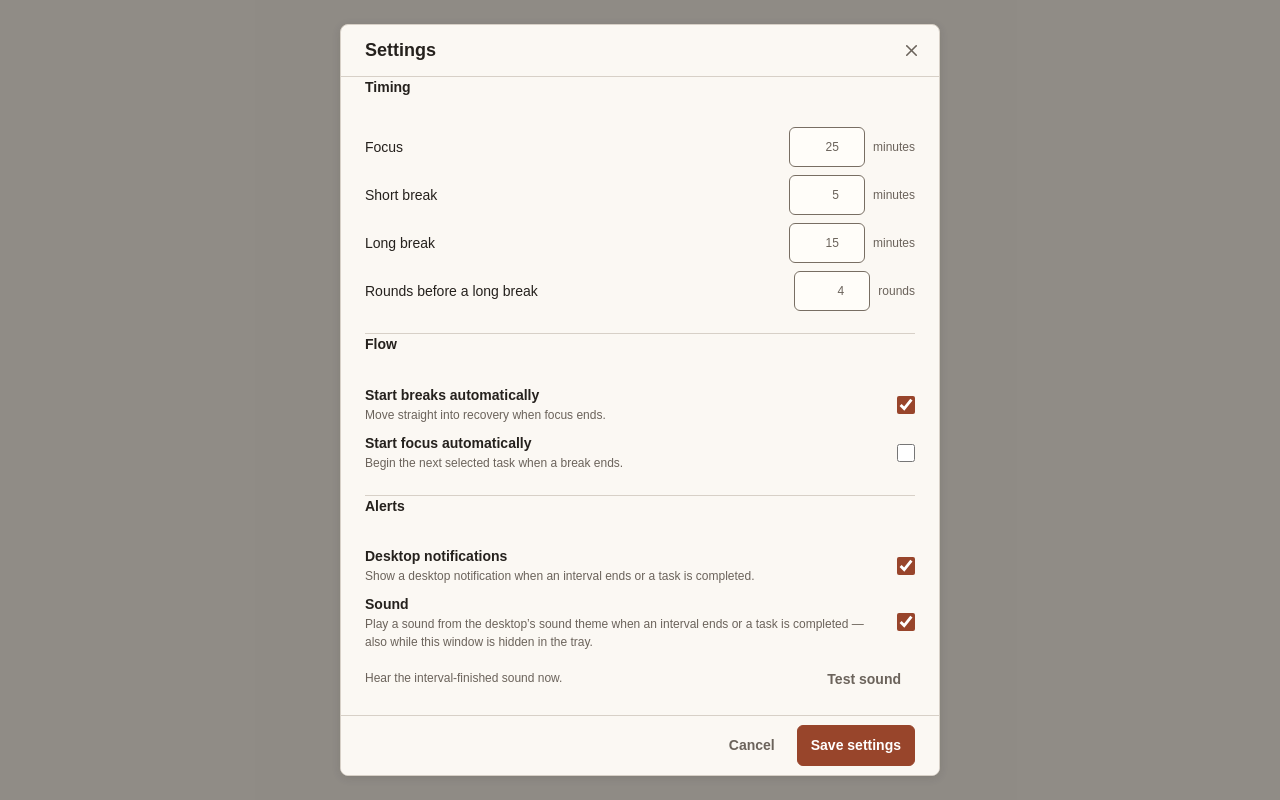
it: number fields › can be emptied to retype, and settles into range when left
Clear the number field labelled "Focus" at (827, 147), box [789, 127, 865, 167]
Type "3" into the number field labelled "Focus" at (827, 147), box [789, 127, 865, 167]
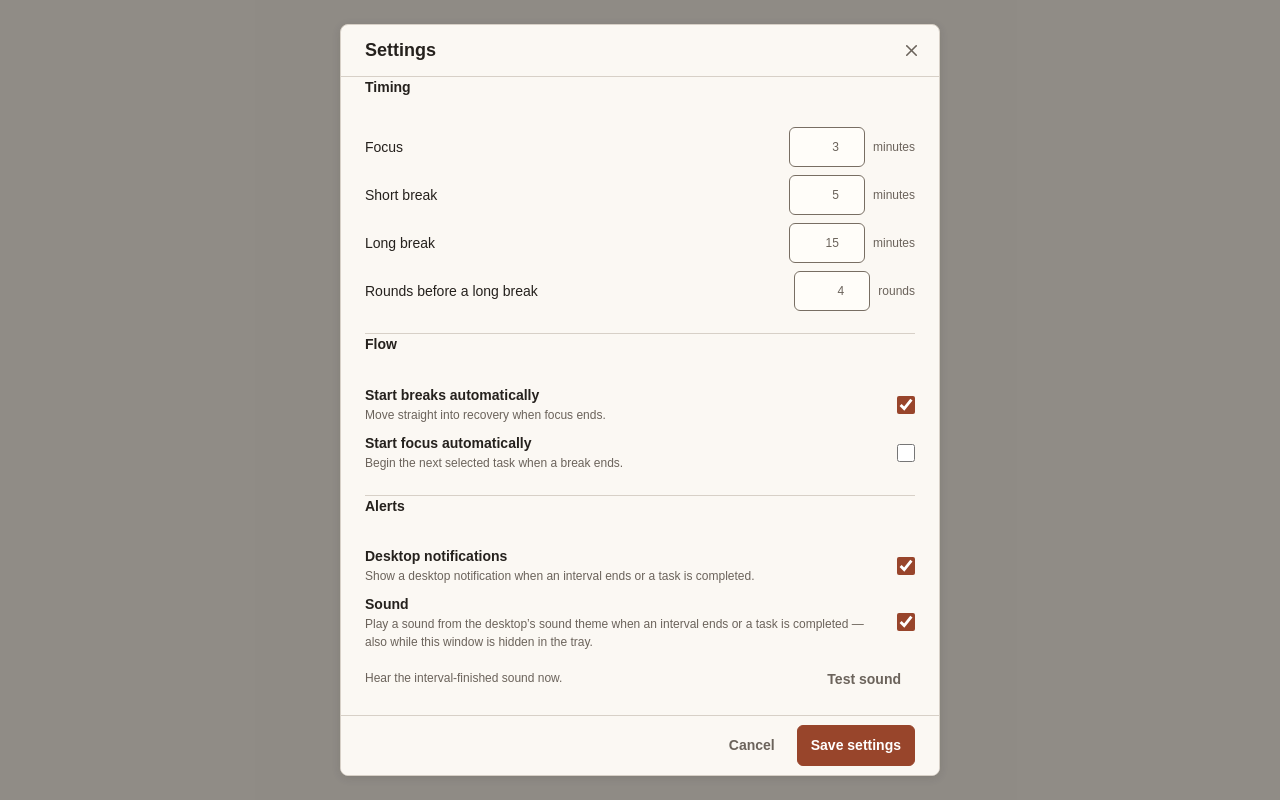
Replace the text in the number field labelled "Focus" with "30" at (827, 147), box [789, 127, 865, 167]
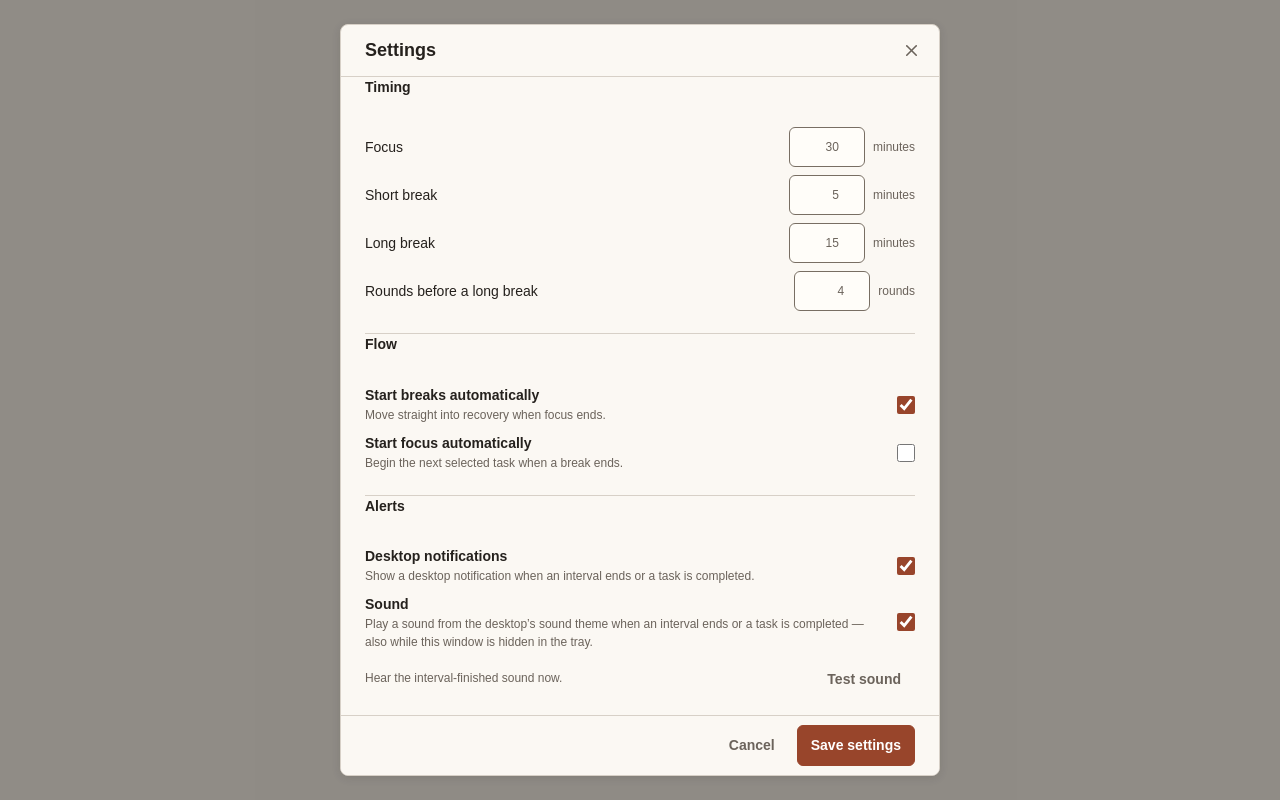
Replace the text in the number field labelled "Focus" with "300" at (827, 147), box [789, 127, 865, 167]
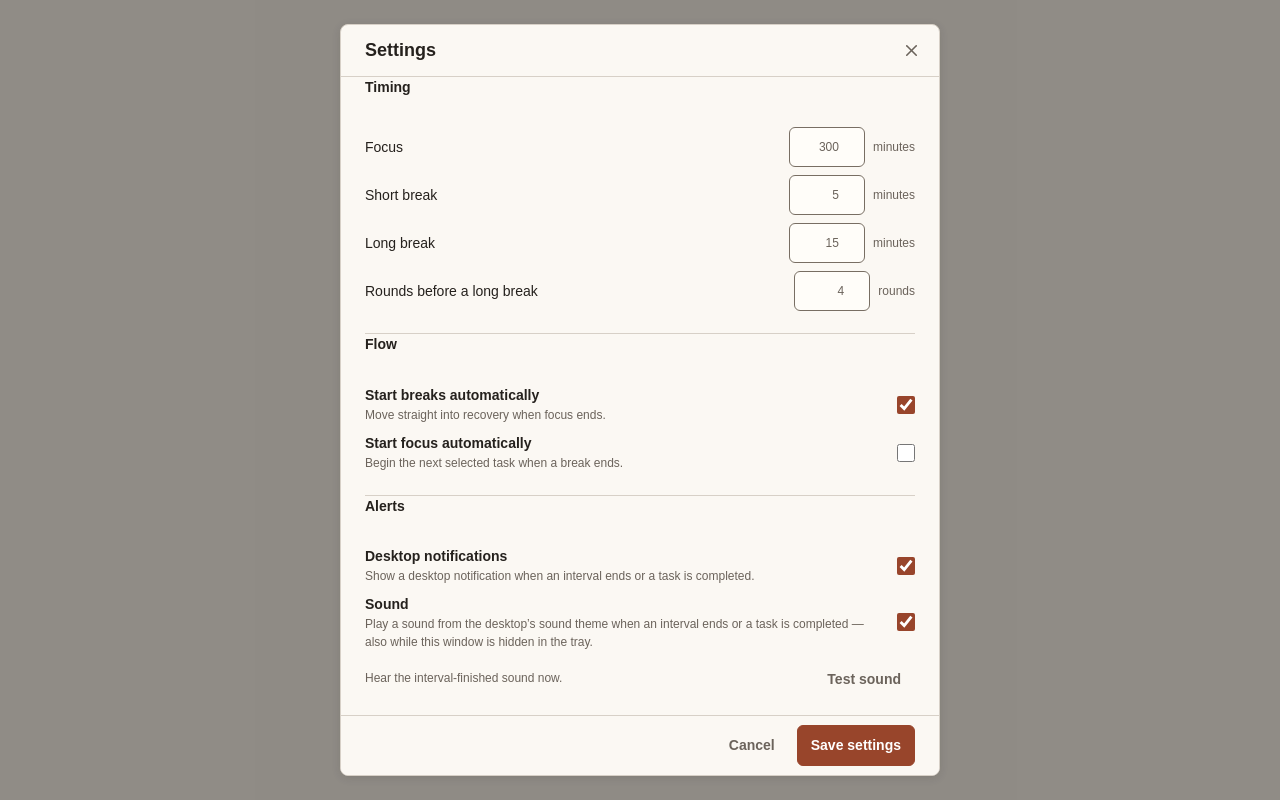
Leave the number field labelled "Focus", box [789, 127, 865, 167]
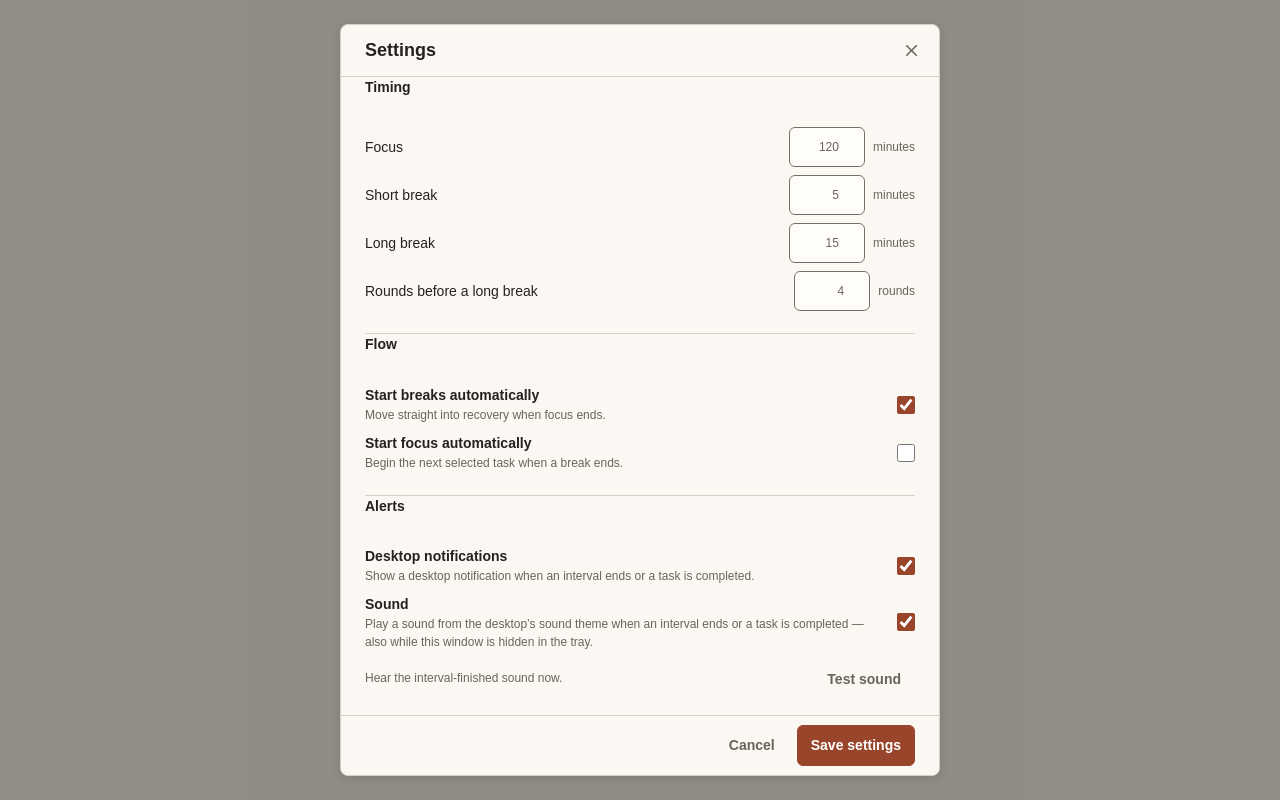
Now the number field labelled "Focus" holds "120"
Clear the number field labelled "Focus" at (827, 147), box [789, 127, 865, 167]
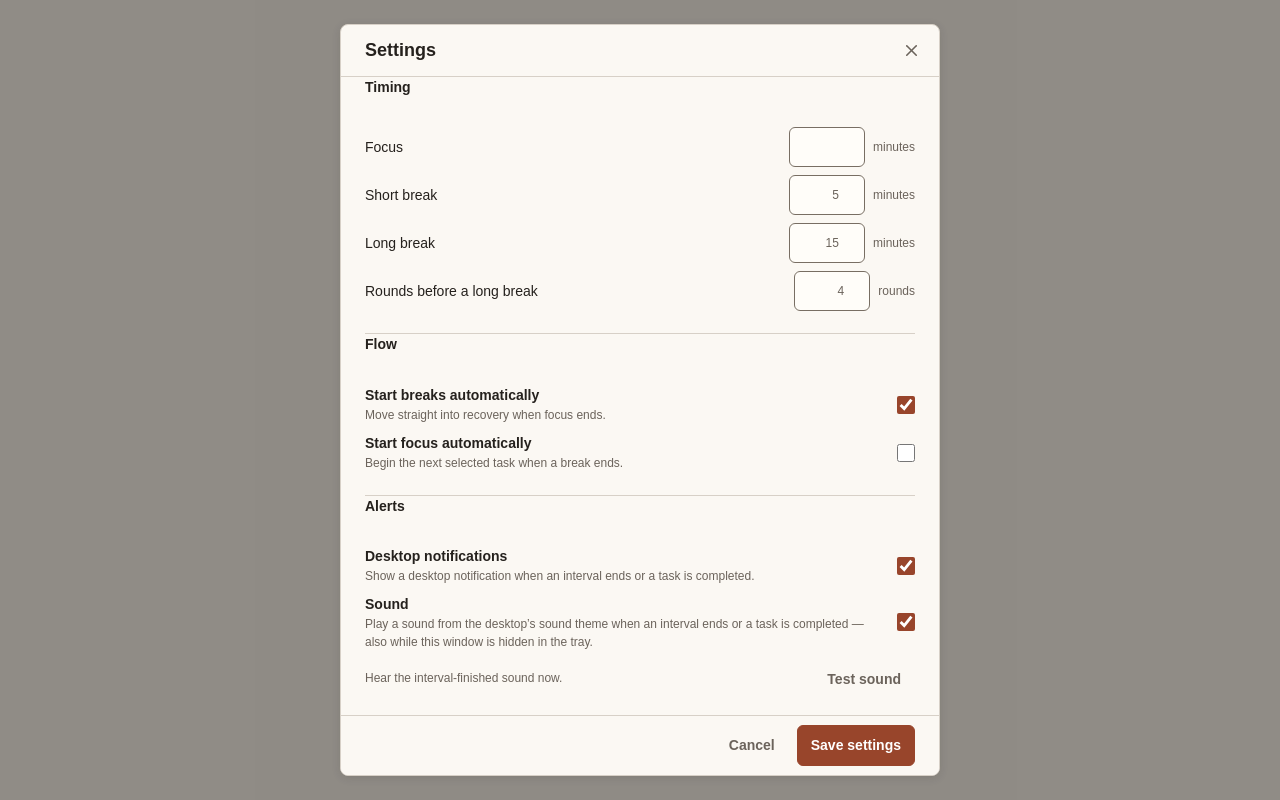
Leave the number field labelled "Focus", box [789, 127, 865, 167]
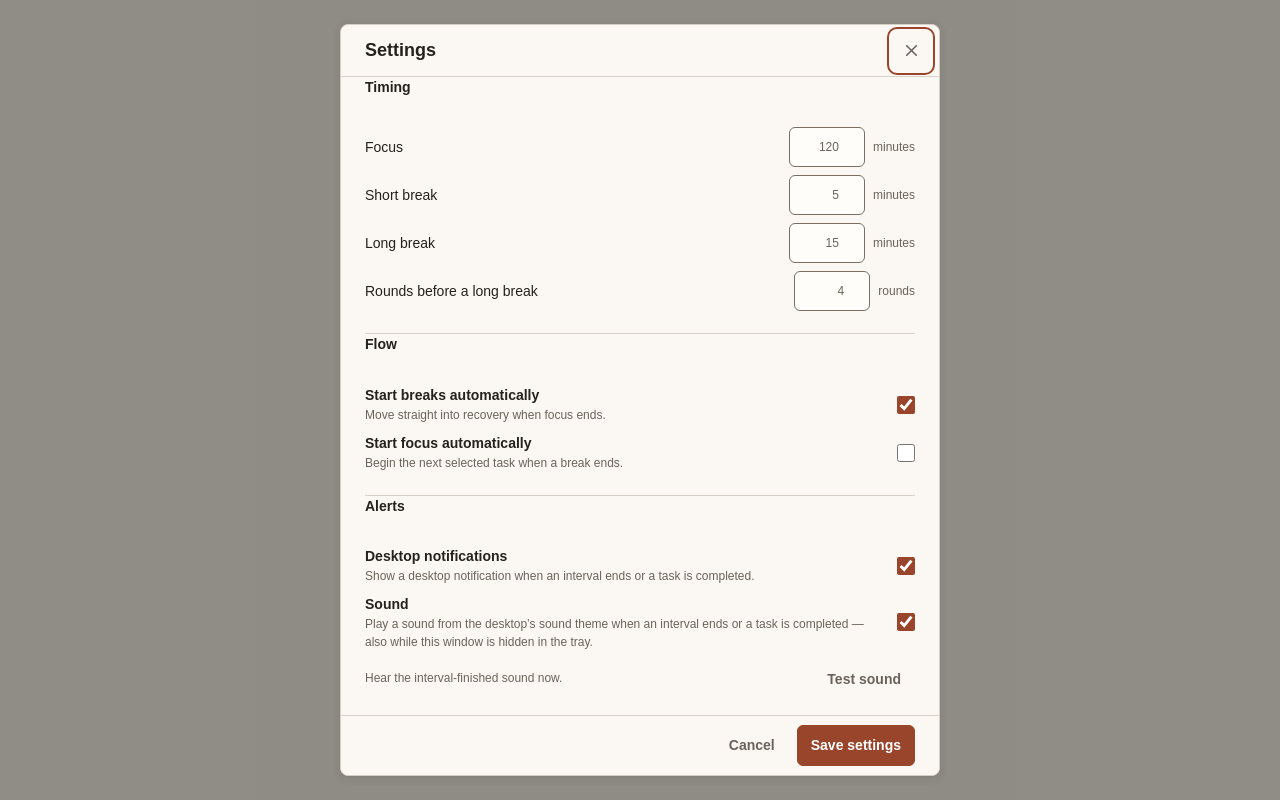
Now the number field labelled "Focus" holds "120", box [789, 127, 865, 167]
